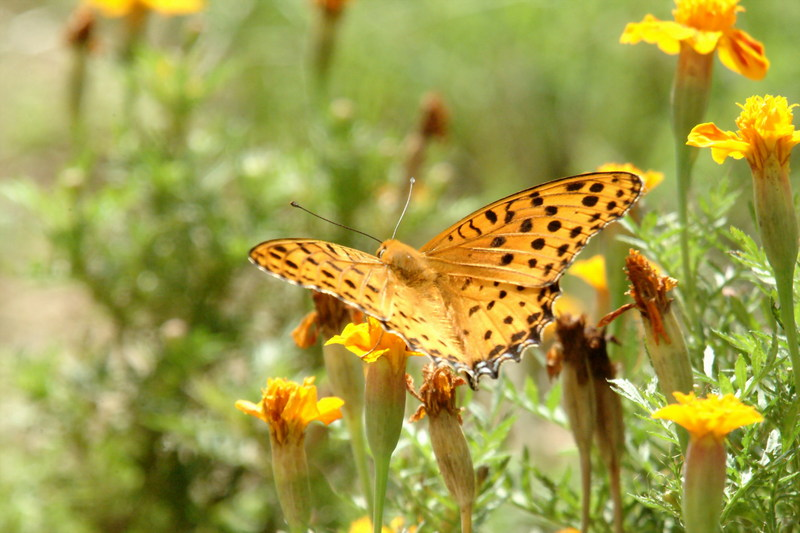Argyreus hyperbius: (242, 162, 650, 387)
butterfly: (244, 164, 652, 389)
